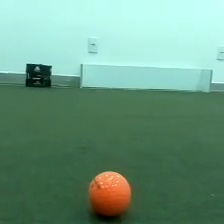ball: (86, 167, 133, 220)
goal: (76, 60, 215, 94)
robot: (23, 61, 53, 89)
